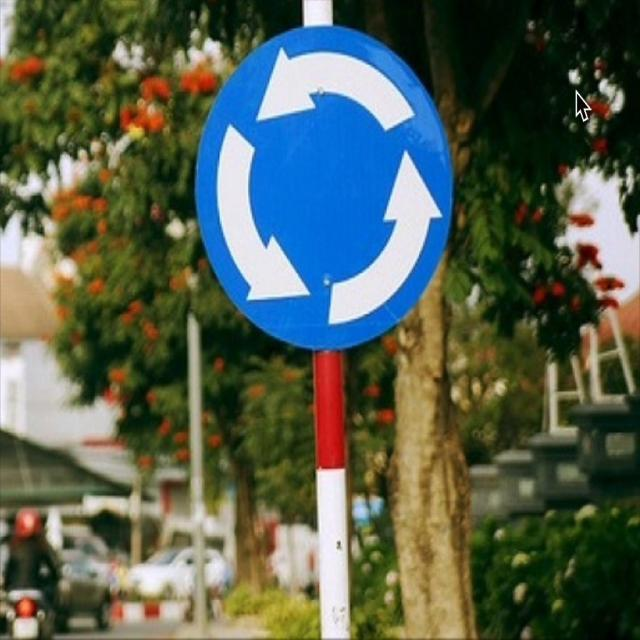303-noi-giao-nhau-chay-theo-vong-xuyen: (190, 19, 458, 358)
